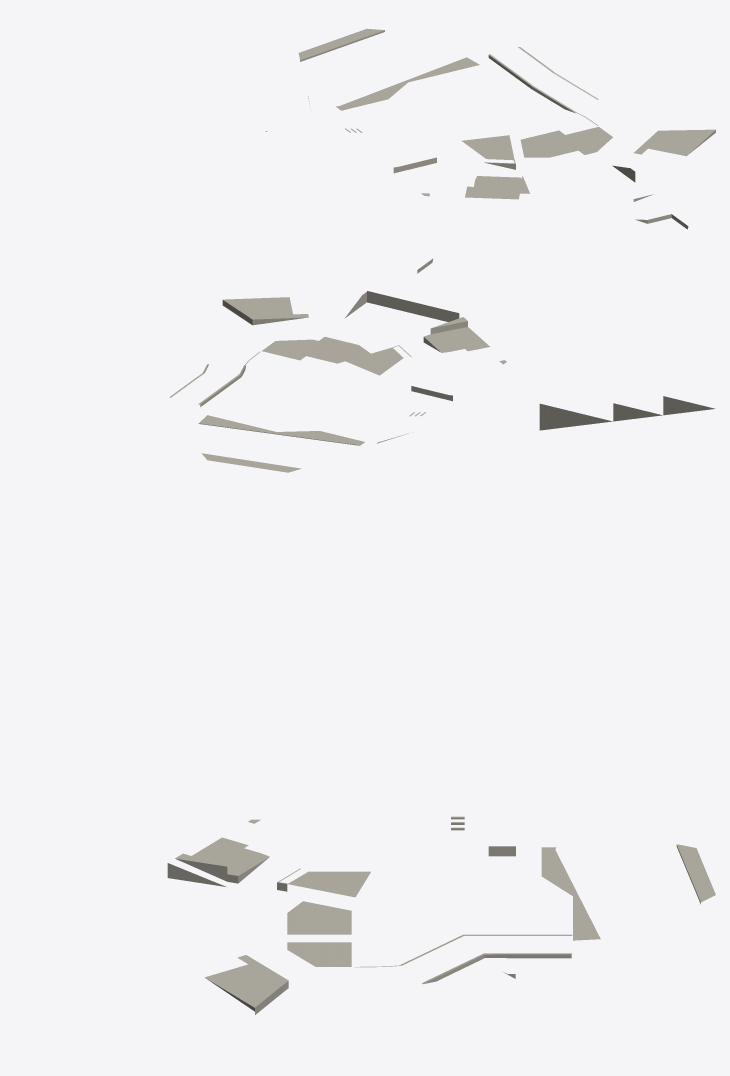
Rendered from kd_connection_town-ground_surface_1_11.glb.
The picture shows the model from 3 angles, top to bottom: view 1: azimuth 30°, elevation 25°; view 2: azimuth 150°, elevation 25°; view 3: azimuth 270°, elevation 25°; orthographic projection. The views are drawn at different scales.
Parts seen in each view (by area): view 1: kd_connection_town-ground_surface_1_11; view 2: kd_connection_town-ground_surface_1_11; view 3: kd_connection_town-ground_surface_1_11.
Boxes of the visible parts, x1=… form: kd_connection_town-ground_surface_1_11: x1=265, y1=28, x2=715, y2=229; kd_connection_town-ground_surface_1_11: x1=170, y1=258, x2=715, y2=472; kd_connection_town-ground_surface_1_11: x1=167, y1=816, x2=715, y2=1014.
Size of the model in its own units: 74.07 by 11.7 by 50.33.
1 material, 1 textured.
